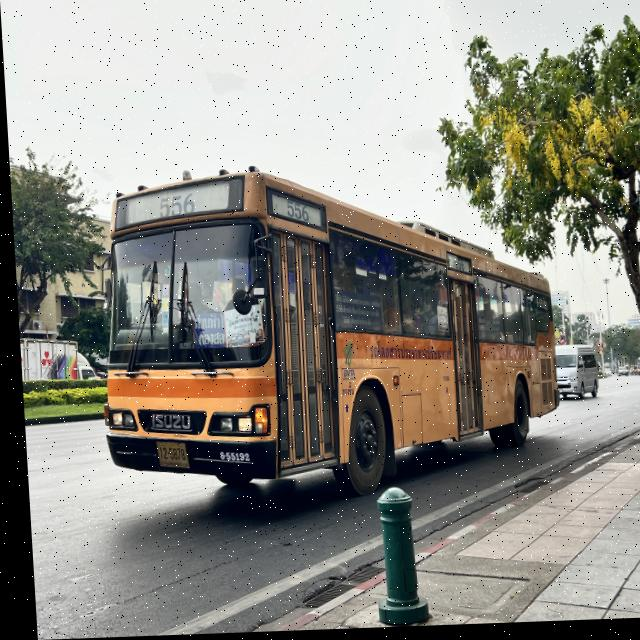BMTA-bus: (98, 169, 555, 499)
Bus Line Number: (148, 193, 200, 223), (280, 197, 310, 230), (446, 256, 464, 279)
Bus Side Number: (210, 445, 251, 471)
Destination Sign: (187, 310, 224, 352)
